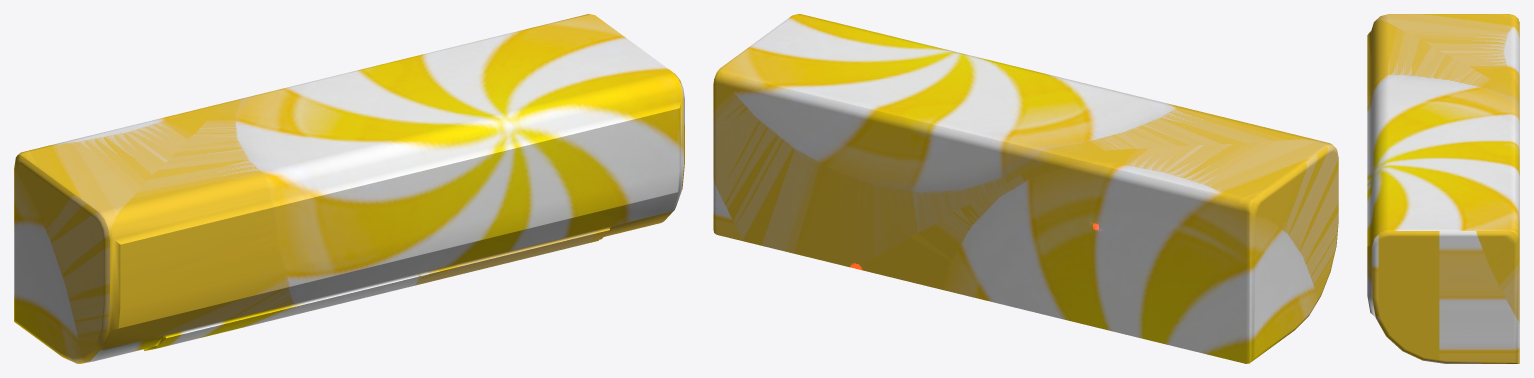
The model's file is WallAC.fbx.
3 views of the same model, side by side, from view 1: azimuth 30°, elevation 25°; view 2: azimuth 150°, elevation 25°; view 3: azimuth 270°, elevation 25° (orthographic). The views are drawn at different scales.
Visible parts, largest first — view 1: AC; view 2: AC; view 3: AC.
Part boxes in pixels (left/top/right/bottom): AC: left=14, top=14, right=684, bottom=363; AC: left=713, top=14, right=1338, bottom=363; AC: left=1367, top=14, right=1519, bottom=363.
Bounding box in the file's own units: 1400 × 400 × 412.
